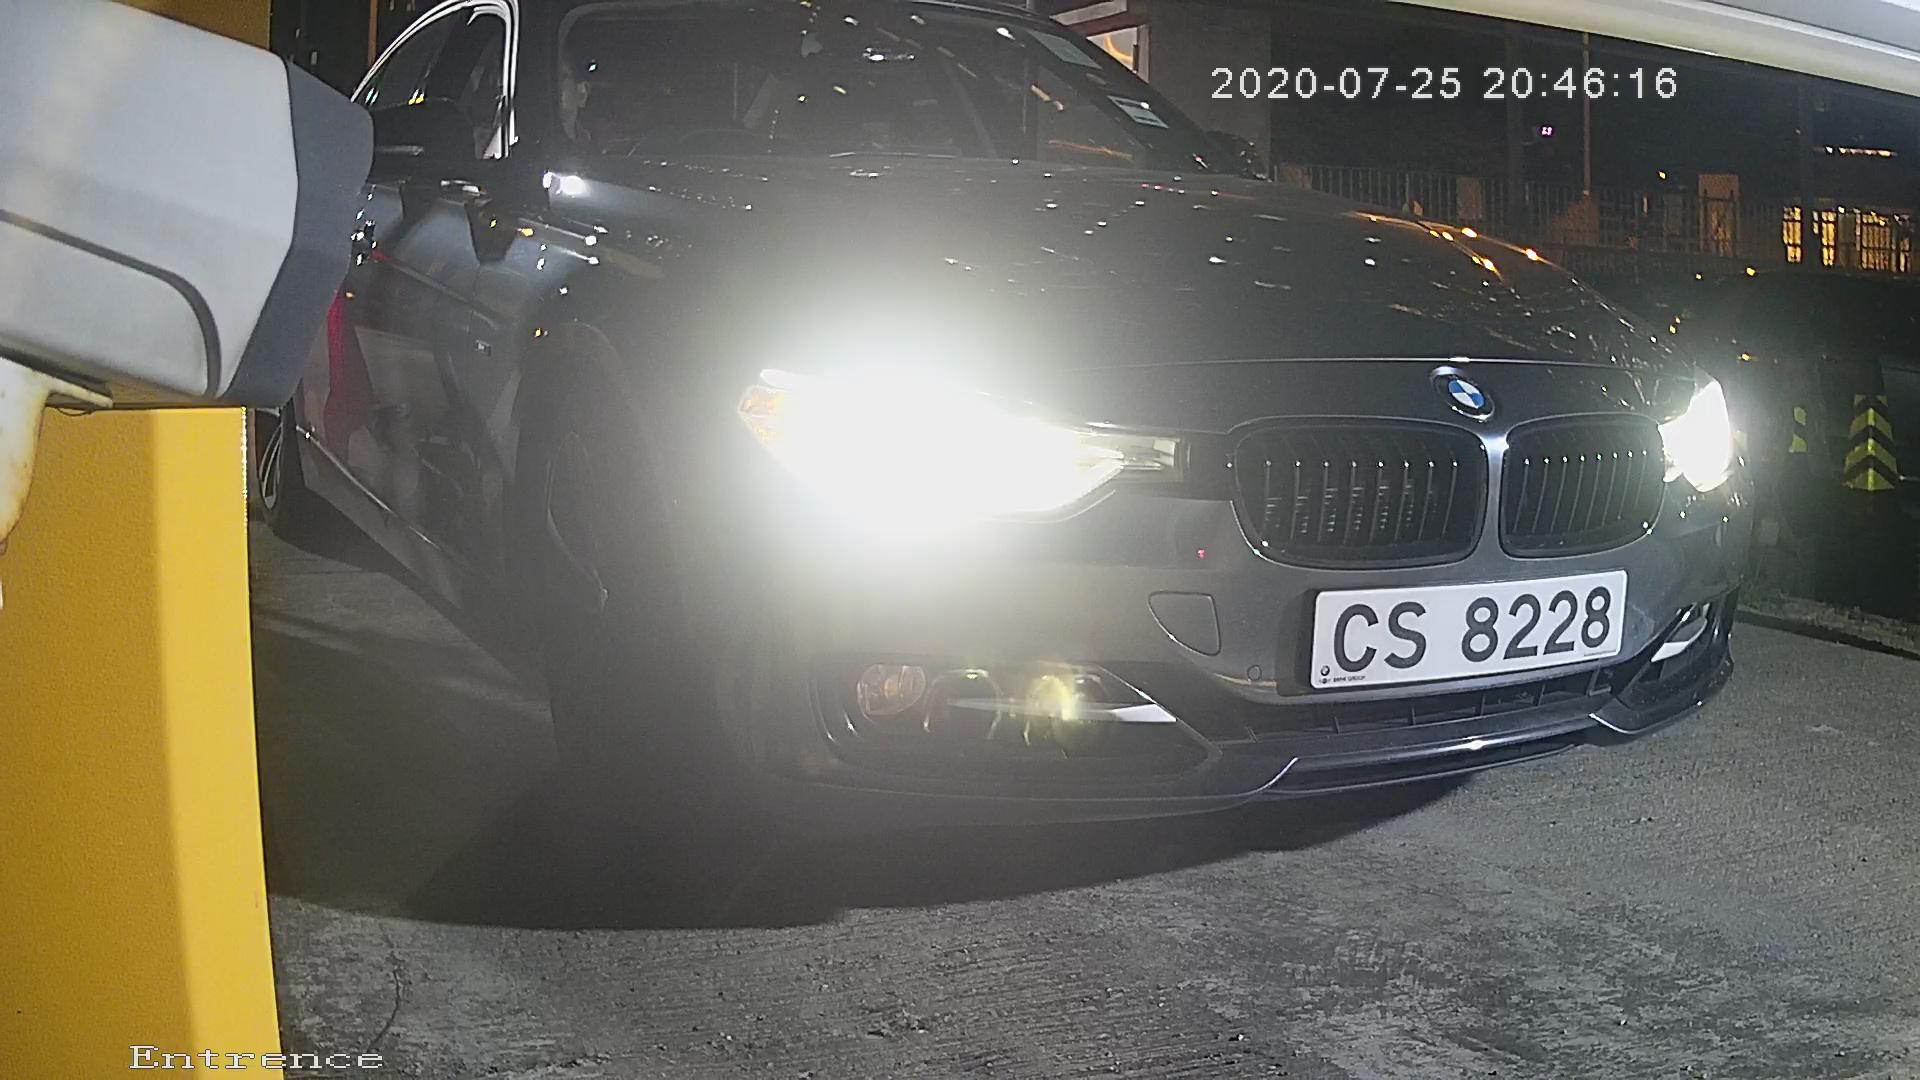License Plate: (1269, 555, 1663, 700)
